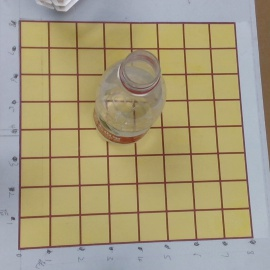bottle: (87, 51, 162, 151)
